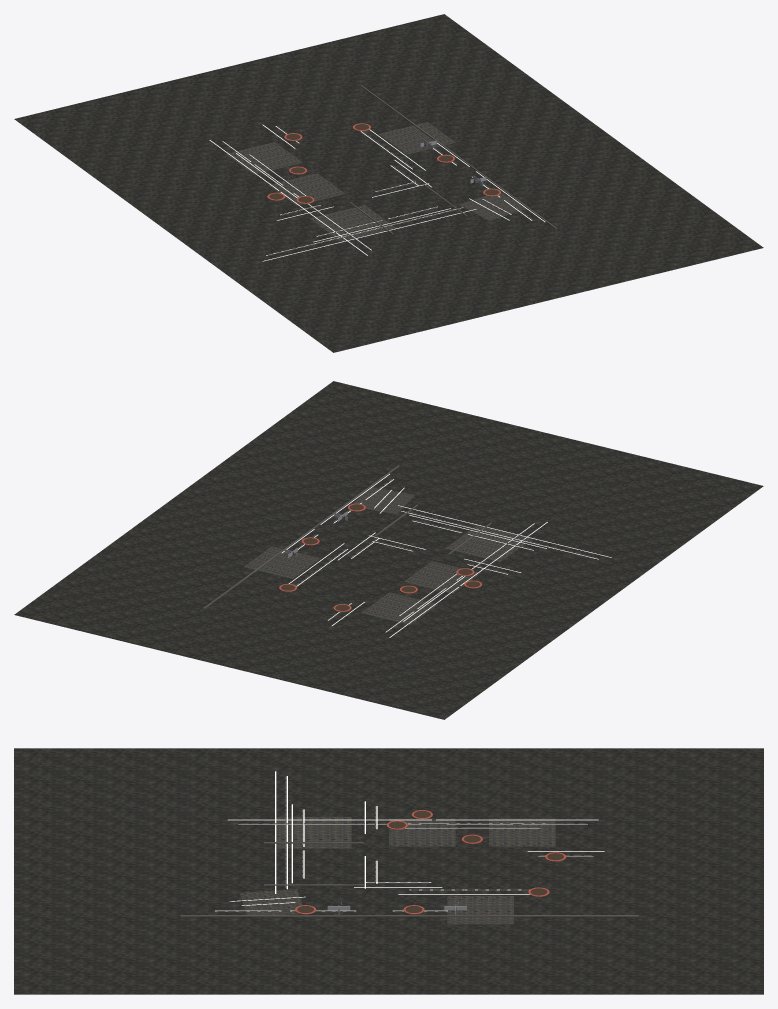
The model's file is ground.glb.
3 views of the same model, one above another, from view 1: azimuth 30°, elevation 25°; view 2: azimuth 150°, elevation 25°; view 3: azimuth 270°, elevation 25° (orthographic). The views are drawn at different scales.
Visible parts, largest first — view 1: Asphalt, StallPatch_0, StallPatch_2, StallPatch_4, StallPatch_1, StallPatch_3; view 2: Asphalt, StallPatch_0, StallPatch_2, StallPatch_4, StallPatch_1, StallPatch_3; view 3: Asphalt, StallPatch_0, StallPatch_2, StallPatch_1, StallPatch_4, StallPatch_3, Curb.
Boxes of the visible parts, box(x1,y1,x2,y2) form: Asphalt: box(14, 14, 763, 352); StallPatch_0: box(310, 205, 396, 241); StallPatch_2: box(226, 142, 302, 174); StallPatch_4: box(379, 122, 455, 154); StallPatch_1: box(268, 173, 345, 205); StallPatch_3: box(459, 193, 526, 220); Asphalt: box(14, 381, 763, 719); StallPatch_0: box(445, 525, 531, 561); StallPatch_2: box(361, 592, 438, 624); StallPatch_4: box(244, 546, 320, 578); StallPatch_1: box(404, 561, 480, 593); StallPatch_3: box(353, 487, 415, 513); Asphalt: box(14, 748, 763, 994); StallPatch_0: box(276, 817, 351, 848); StallPatch_2: box(489, 818, 555, 846); StallPatch_1: box(389, 818, 455, 846); StallPatch_4: box(447, 896, 513, 924); StallPatch_3: box(239, 889, 302, 914); Curb: box(180, 915, 638, 916).
Bounding box in the file's own units: 140 × 1.16 × 180.
Materials: 9 (3 with a texture image).
